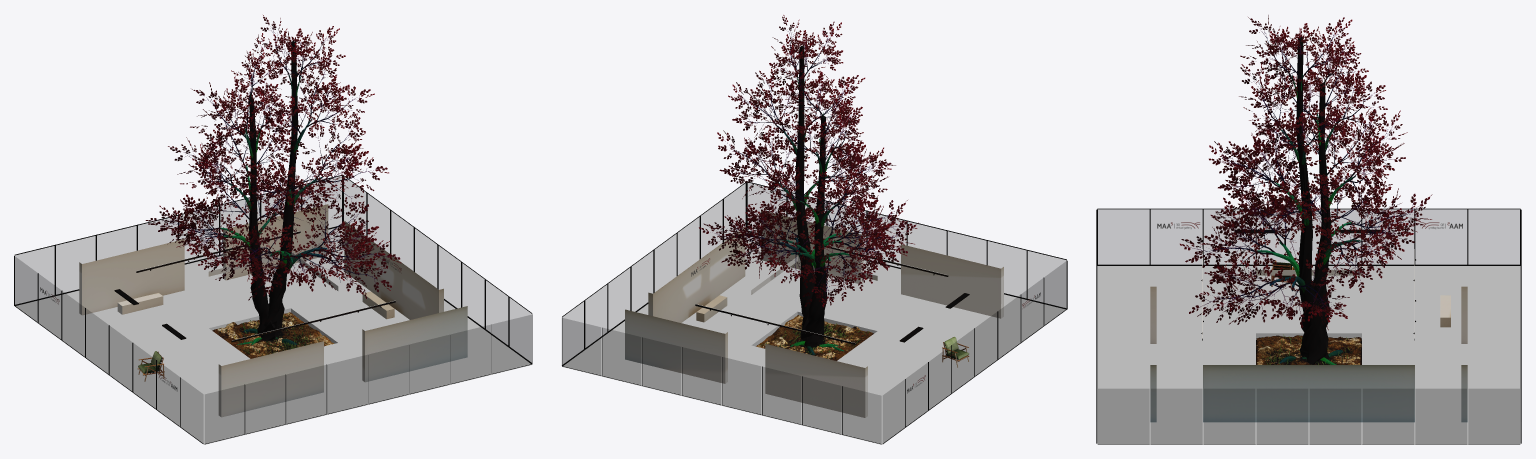
3 renders of one model, left to right at view 1: azimuth 30°, elevation 25°; view 2: azimuth 150°, elevation 25°; view 3: azimuth 270°, elevation 25°, orthographic. The views are drawn at different scales.
Parts seen in each view (by area): view 1: glass, floor, leaf, walls, Tree, window, interior, ground; view 2: glass, floor, walls, leaf, Tree, window, ground, interior; view 3: floor, glass, leaf, walls, Tree, window, ground, interior.
Boxes of the visible parts, left/top/right/bottom form: glass: left=14, top=176, right=532, bottom=443; floor: left=16, top=227, right=531, bottom=444; leaf: left=145, top=15, right=401, bottom=300; walls: left=79, top=204, right=467, bottom=417; Tree: left=174, top=35, right=373, bottom=344; window: left=14, top=174, right=532, bottom=444; interior: left=114, top=231, right=395, bottom=381; ground: left=212, top=312, right=333, bottom=358; glass: left=562, top=183, right=1066, bottom=443; floor: left=562, top=232, right=1065, bottom=444; walls: left=625, top=210, right=1003, bottom=417; leaf: left=699, top=15, right=918, bottom=307; Tree: left=726, top=37, right=894, bottom=354; window: left=562, top=181, right=1067, bottom=444; ground: left=756, top=315, right=873, bottom=360; interior: left=695, top=236, right=969, bottom=367; floor: left=1097, top=266, right=1520, bottom=444; glass: left=1098, top=209, right=1519, bottom=443; leaf: left=1180, top=15, right=1432, bottom=330; walls: left=1150, top=286, right=1467, bottom=422; Tree: left=1209, top=36, right=1410, bottom=364; window: left=1096, top=208, right=1521, bottom=444; ground: left=1256, top=335, right=1361, bottom=364; interior: left=1201, top=229, right=1450, bottom=340.
Size of the model in its own units: 19.78 by 18.92 by 19.78.
